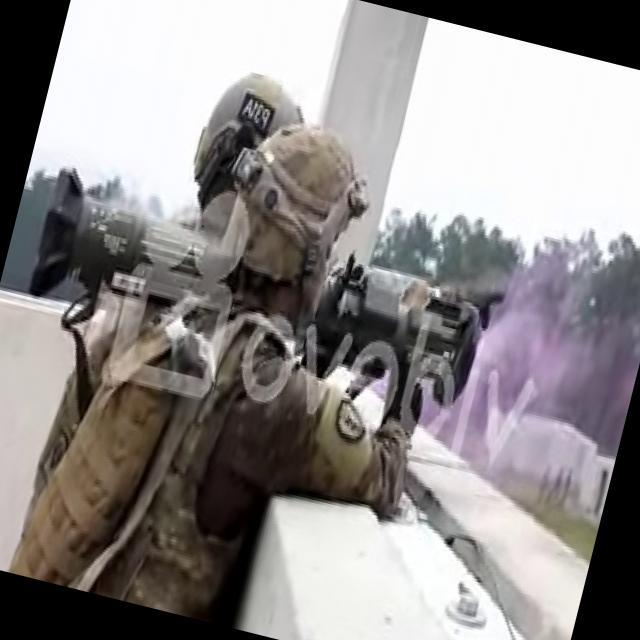rocket: (23, 166, 506, 410)
